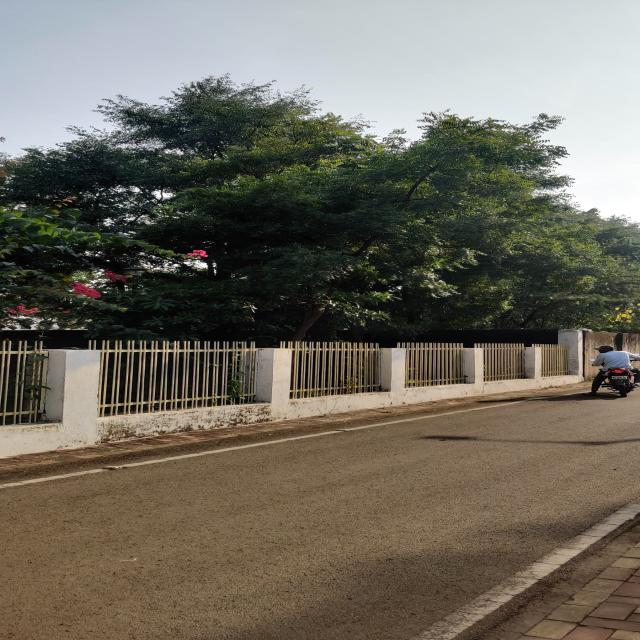Neem Tree: (159, 111, 527, 312)
